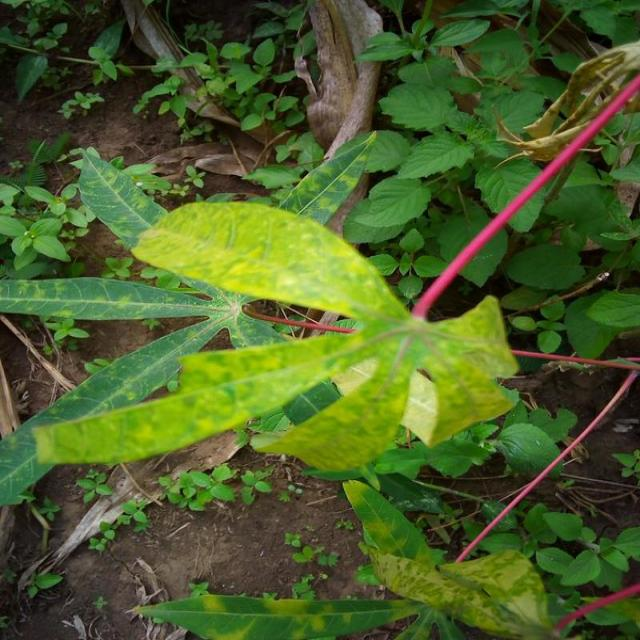cassava leaf: (2, 191, 520, 503)
